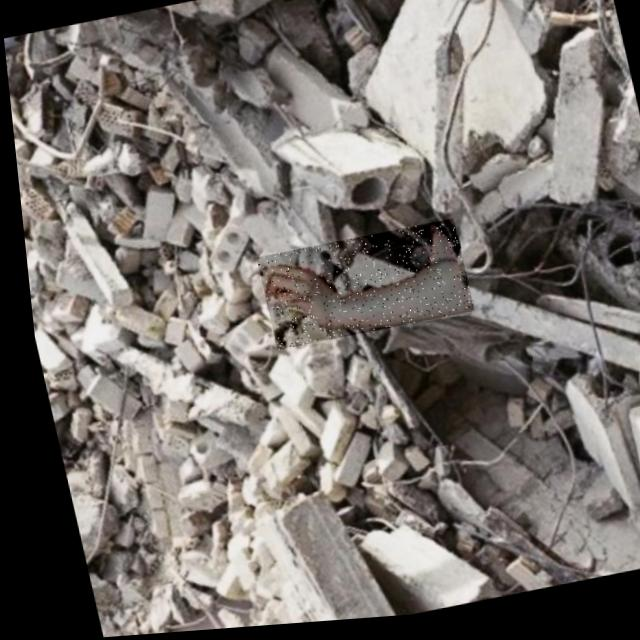Person in Rubble: (248, 223, 468, 353)
